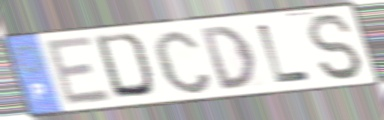C: (150, 27, 216, 97)
D: (92, 31, 160, 101), (197, 23, 259, 92)
E: (42, 34, 115, 110)
L: (255, 22, 314, 86)
S: (304, 12, 367, 83)
